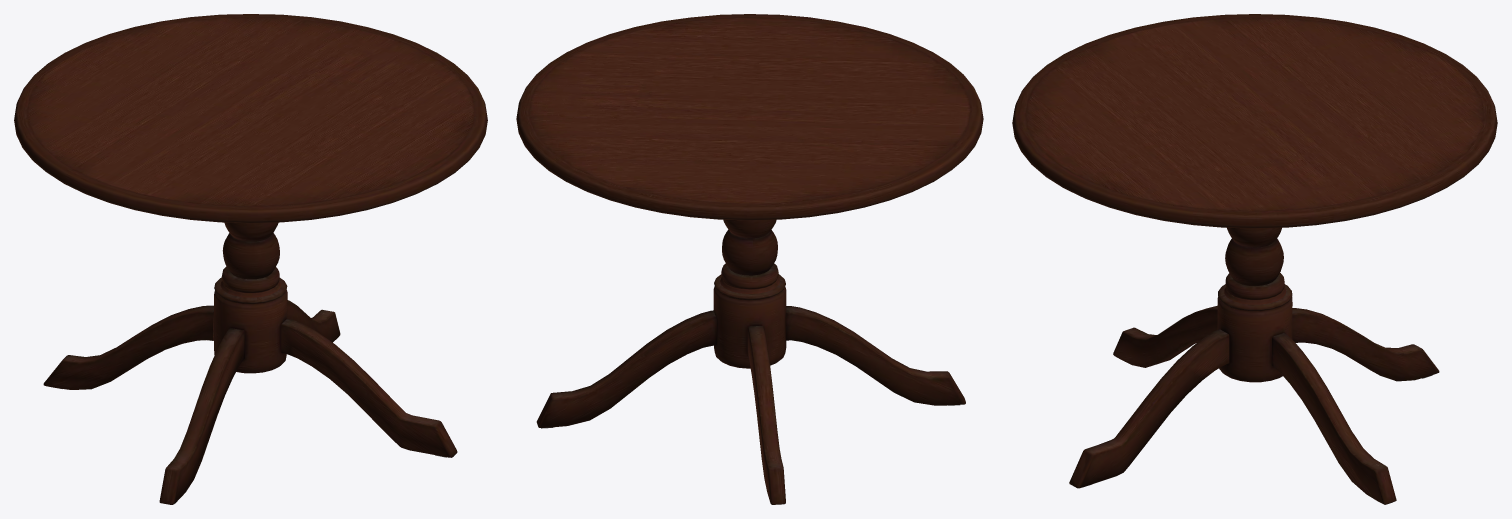
File: round_wooden_table_01.glb
3 renders of one model, left to right at view 1: azimuth 30°, elevation 25°; view 2: azimuth 150°, elevation 25°; view 3: azimuth 270°, elevation 25°, orthographic. The views are drawn at different scales.
Parts seen in each view (by area): view 1: round_wooden_table_01; view 2: round_wooden_table_01; view 3: round_wooden_table_01.
Boxes of the visible parts, x1,y1,x2,y2 form: round_wooden_table_01: (14,14,487,504); round_wooden_table_01: (516,14,983,504); round_wooden_table_01: (1012,14,1497,504).
Size of the model in its own units: 1.4 by 1 by 1.4.
1 material, 1 textured.
